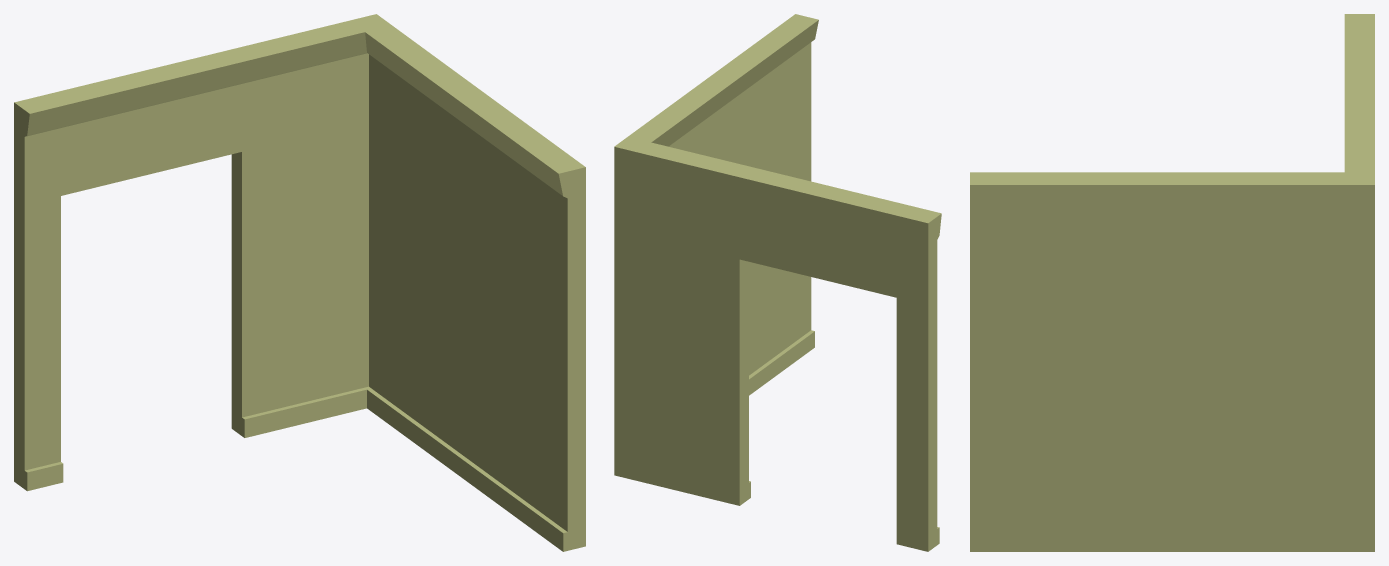
File: Wal_4_4.fbx
3 renders of one model, left to right at view 1: azimuth 30°, elevation 25°; view 2: azimuth 150°, elevation 25°; view 3: azimuth 270°, elevation 25°, orthographic. The views are drawn at different scales.
Visible parts, largest first — view 1: polySurface1962; view 2: polySurface1962; view 3: polySurface1962.
Part boxes in pixels (box(x1,y1,x2,y2)): polySurface1962: box(14, 14, 585, 551); polySurface1962: box(614, 14, 941, 551); polySurface1962: box(970, 14, 1374, 551).
Size of the model in its own units: 4 by 4 by 4.
1 material, 1 textured.
